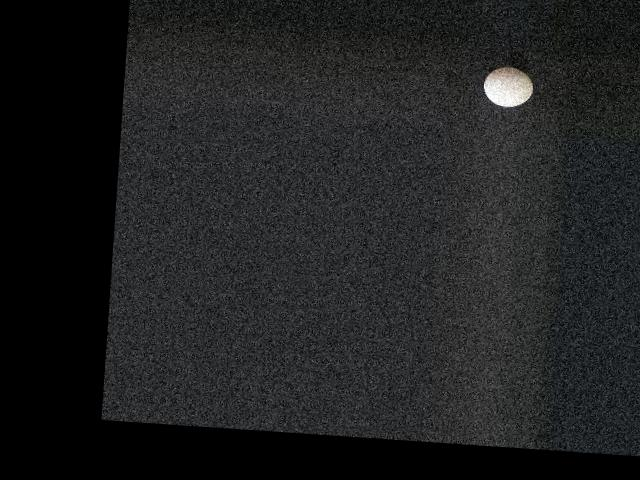egg: (484, 65, 535, 108)
